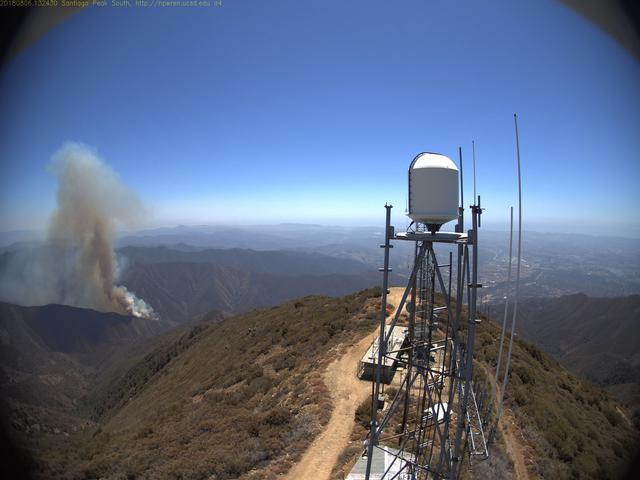Smoke: (3, 142, 154, 325)
